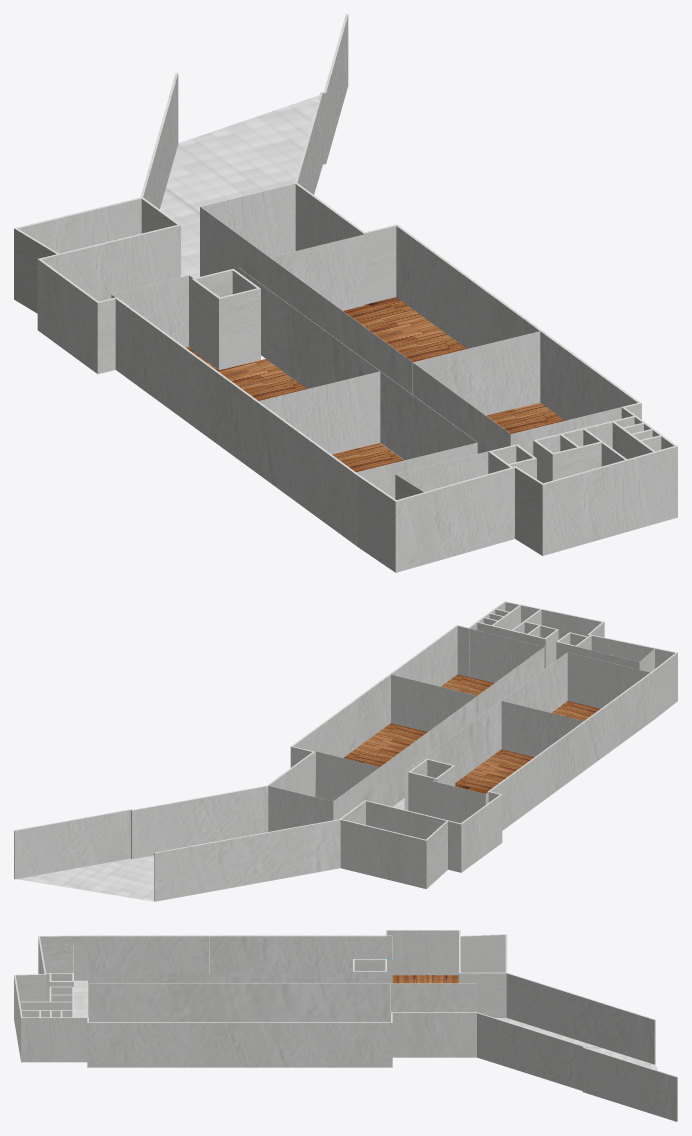
The model's file is D9-gf-withoutbase.glb.
3 renders of one model, top to bottom at view 1: azimuth 30°, elevation 25°; view 2: azimuth 150°, elevation 25°; view 3: azimuth 270°, elevation 25°, orthographic. The views are drawn at different scales.
Visible parts, largest first — view 1: walls, CONNECTING_CORIDOOR_90C3, COMPANY_OFFICE_9015, COMPANY_OFFICE_9007, COMPANY_OFFICE_9014, COMPANY_OFFICE_9008; view 2: walls, CONNECTING_CORIDOOR_90C3, COMPANY_OFFICE_9015, COMPANY_OFFICE_9007, COMPANY_OFFICE_9014, COMPANY_OFFICE_9008; view 3: walls, CONNECTING_CORIDOOR_90C3, LOBBY_9006, CORIDOOR_WIDE_90C2.
Part boxes in pixels (bbox=[...]): walls: bbox=[14, 14, 677, 572]; CONNECTING_CORIDOOR_90C3: bbox=[160, 95, 323, 277]; COMPANY_OFFICE_9015: bbox=[343, 297, 466, 361]; COMPANY_OFFICE_9007: bbox=[190, 350, 306, 400]; COMPANY_OFFICE_9014: bbox=[486, 402, 564, 433]; COMPANY_OFFICE_9008: bbox=[332, 443, 403, 472]; walls: bbox=[14, 601, 677, 901]; CONNECTING_CORIDOOR_90C3: bbox=[17, 855, 154, 901]; COMPANY_OFFICE_9015: bbox=[315, 723, 427, 796]; COMPANY_OFFICE_9007: bbox=[455, 749, 533, 804]; COMPANY_OFFICE_9014: bbox=[441, 674, 494, 695]; COMPANY_OFFICE_9008: bbox=[551, 701, 600, 720]; walls: bbox=[14, 930, 677, 1121]; CONNECTING_CORIDOOR_90C3: bbox=[501, 1018, 657, 1091]; LOBBY_9006: bbox=[392, 975, 458, 983]; CORIDOOR_WIDE_90C2: bbox=[74, 980, 88, 1017].
Size of the model in its own units: 0.3395 by 0.0477 by 0.6459.
1 material, 1 textured.
